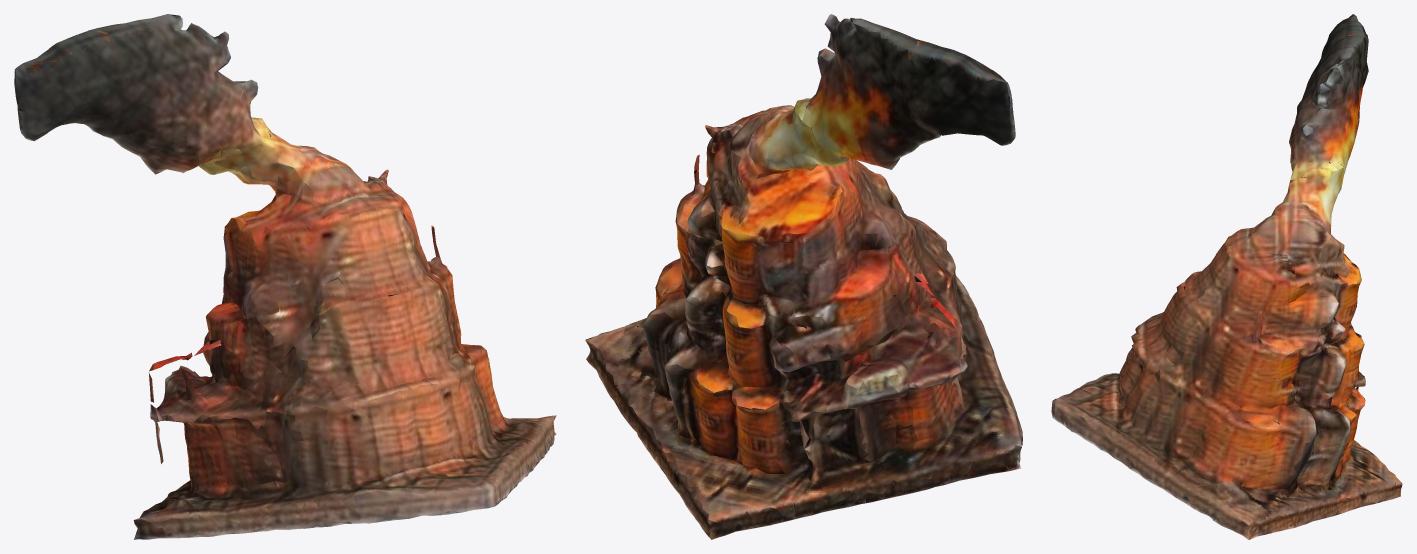
The model's file is vorash_plasma_purifier_1792713425768.glb.
The picture shows the model from 3 angles, left to right: view 1: azimuth 30°, elevation 25°; view 2: azimuth 150°, elevation 25°; view 3: azimuth 270°, elevation 25°; orthographic projection. The views are drawn at different scales.
Visible parts, largest first — view 1: geometry_0; view 2: geometry_0; view 3: geometry_0.
Boxes of the visible parts, x1=… form: geometry_0: x1=14, y1=14, x2=556, y2=539; geometry_0: x1=585, y1=14, x2=1022, y2=539; geometry_0: x1=1051, y1=14, x2=1402, y2=539.
Size of the model in its own units: 0.8365 by 0.8446 by 0.6732.
1 material, 1 textured.
